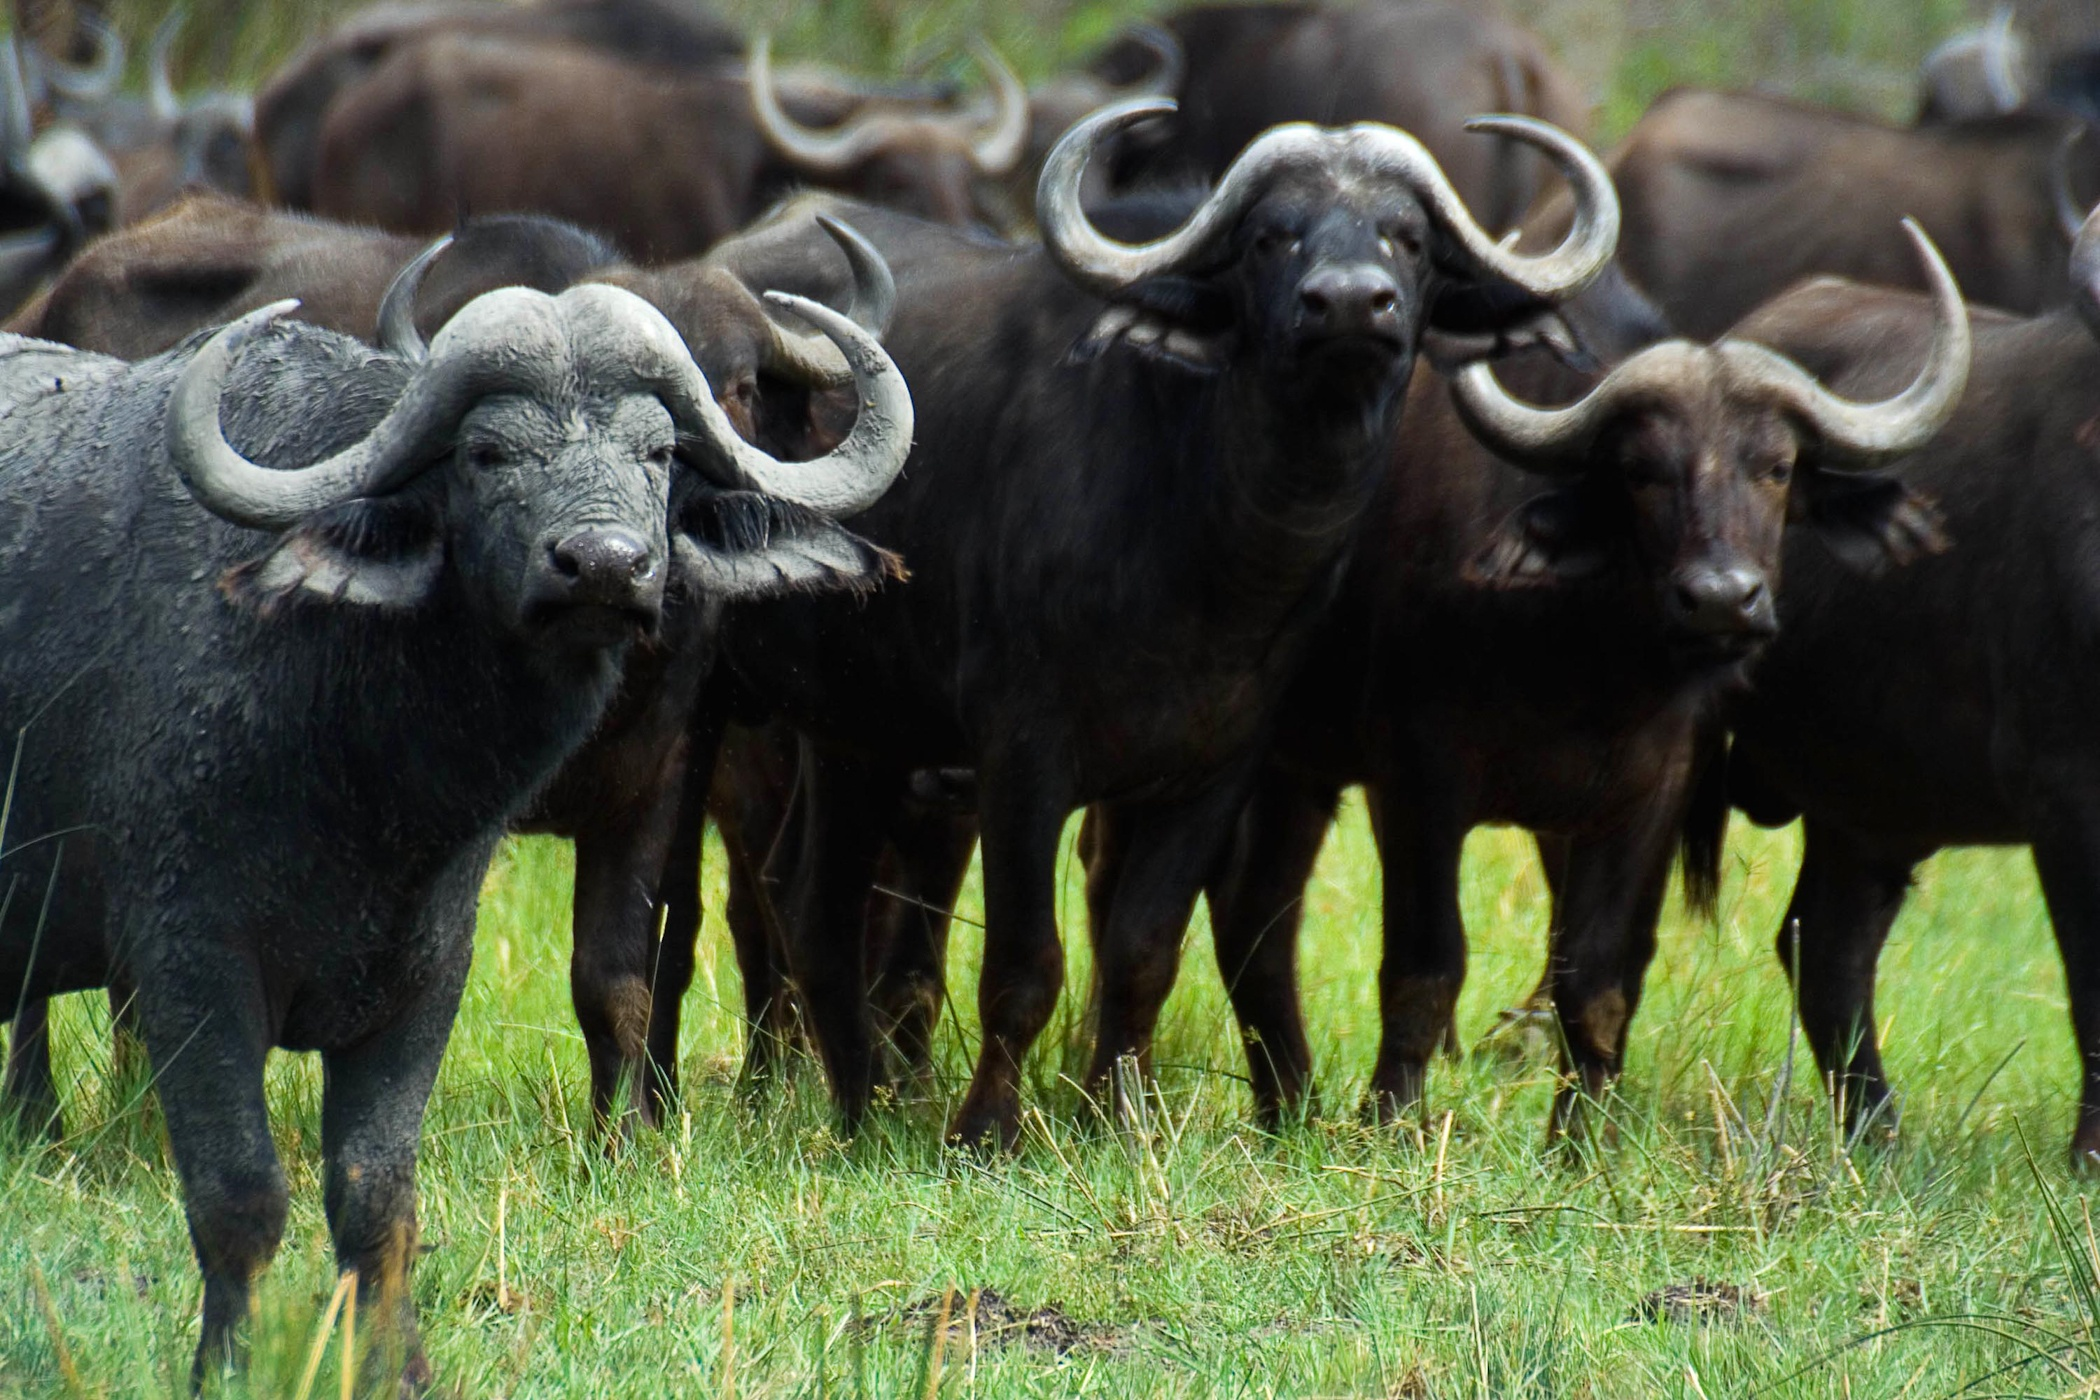buffalo: (2, 292, 920, 1378), (734, 91, 1623, 1162), (1356, 209, 1970, 1162)
